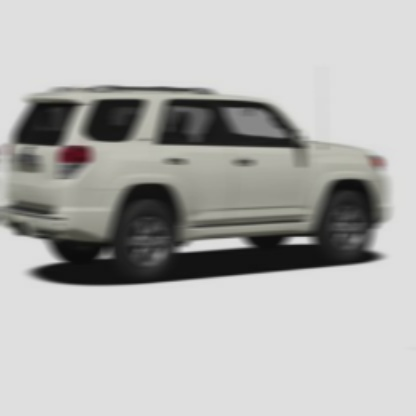Vehicle: (1, 82, 392, 284)
